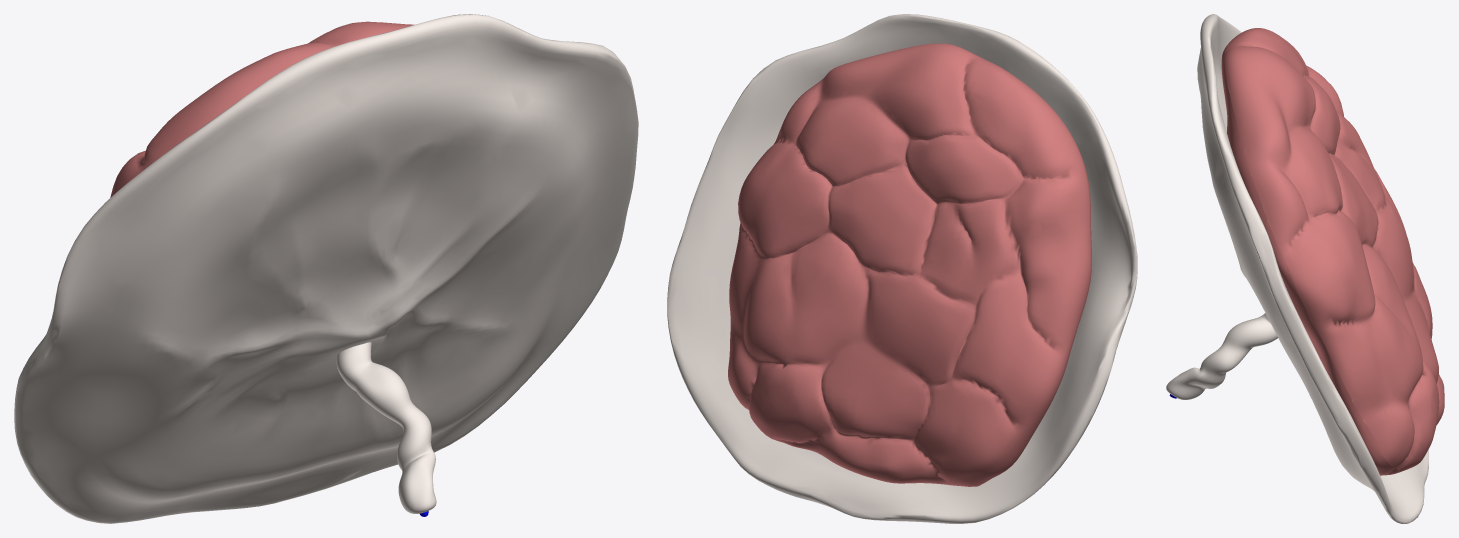
Rendered from vh_f_placenta-80.glb.
The picture shows the model from 3 angles, left to right: view 1: azimuth 30°, elevation 25°; view 2: azimuth 150°, elevation 25°; view 3: azimuth 270°, elevation 25°; orthographic projection. The views are drawn at different scales.
Visible parts, largest first — view 1: VH_F_amnion, VH_F_basal_plate, VH_F_umbilical_cord; view 2: VH_F_basal_plate, VH_F_amnion; view 3: VH_F_basal_plate, VH_F_amnion, VH_F_chorionic_plate, VH_F_umbilical_cord.
Part boxes in pixels (x1=…): VH_F_amnion: x1=14, y1=14, x2=638, y2=523; VH_F_basal_plate: x1=110, y1=21, x2=414, y2=197; VH_F_umbilical_cord: x1=336, y1=342, x2=436, y2=513; VH_F_basal_plate: x1=728, y1=43, x2=1090, y2=486; VH_F_amnion: x1=667, y1=14, x2=1137, y2=523; VH_F_basal_plate: x1=1224, y1=28, x2=1444, y2=471; VH_F_amnion: x1=1197, y1=14, x2=1428, y2=523; VH_F_chorionic_plate: x1=1221, y1=46, x2=1400, y2=475; VH_F_umbilical_cord: x1=1166, y1=313, x2=1277, y2=399.
Bounding box in the file's own units: 0.2509 × 0.2305 × 0.1338.
